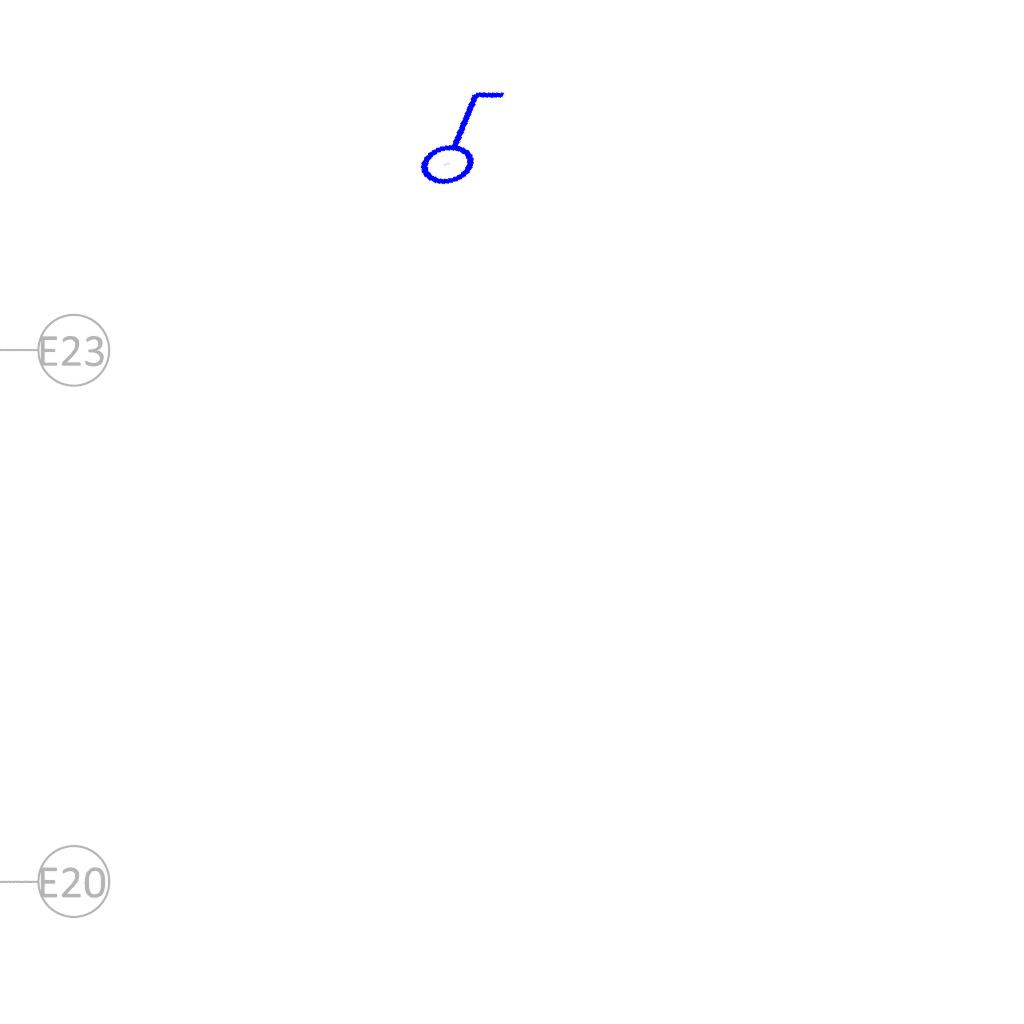Ausschalter: (393, 75, 525, 195)
